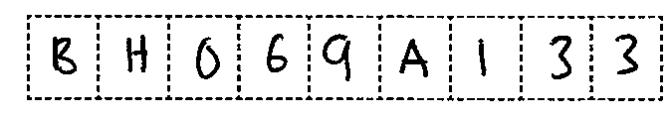0: (186, 35, 229, 81)
1: (463, 35, 501, 83)
3: (538, 31, 578, 83), (606, 30, 642, 81)
6: (258, 29, 292, 78)
9: (318, 29, 358, 85)
A: (392, 34, 435, 85)
B: (44, 31, 81, 81)
H: (118, 31, 158, 84)
